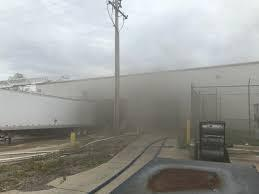smoke: (77, 85, 193, 136)
